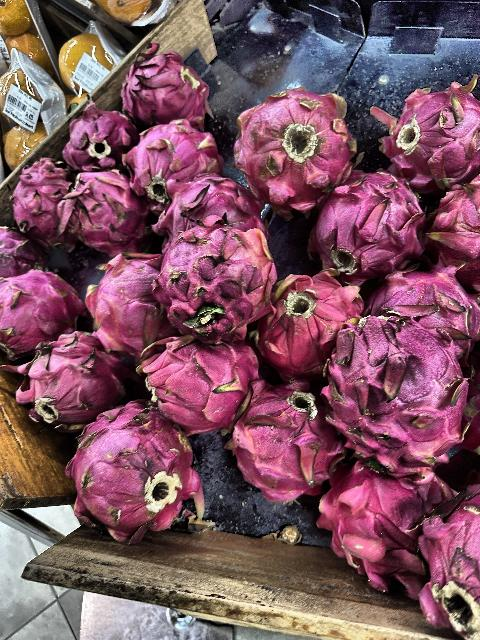buah-naga-belum-matang: (156, 225, 272, 338)
buah-naga-matang: (322, 329, 480, 469), (78, 403, 202, 533), (227, 84, 354, 204), (364, 58, 480, 188), (307, 164, 421, 282), (328, 468, 446, 578), (227, 382, 338, 496), (135, 336, 253, 422), (72, 255, 170, 352), (260, 264, 342, 374), (368, 266, 480, 346), (4, 346, 128, 416), (53, 174, 153, 250), (122, 117, 220, 191), (159, 182, 265, 248), (120, 49, 208, 123), (0, 272, 80, 351), (7, 162, 75, 250), (65, 109, 135, 170), (0, 227, 48, 280)
